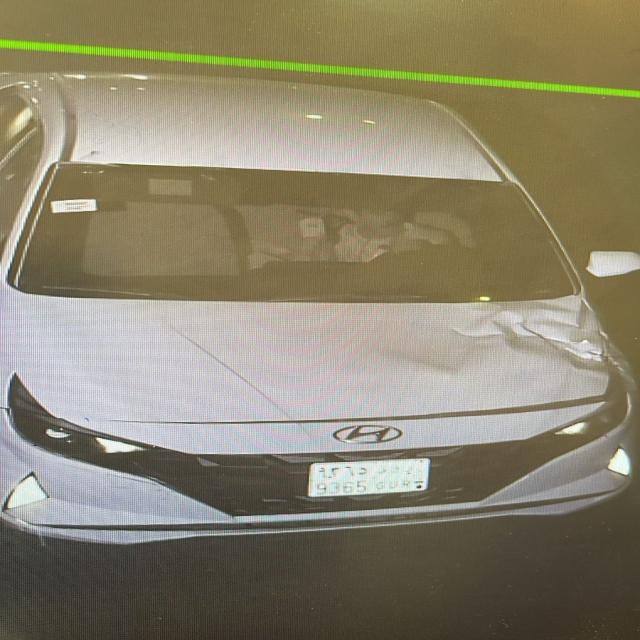person_without_seatbelt: (296, 185, 489, 269)
